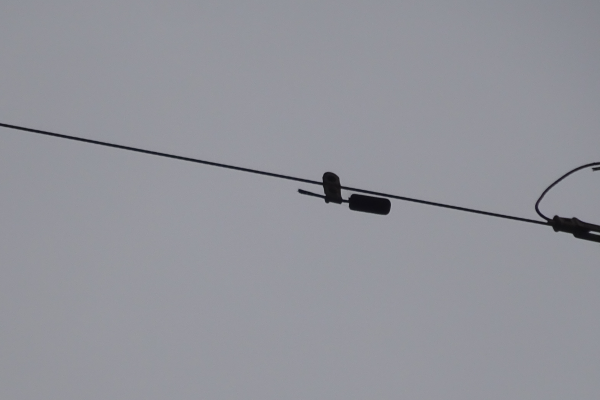damper_defect: (294, 171, 392, 217)
